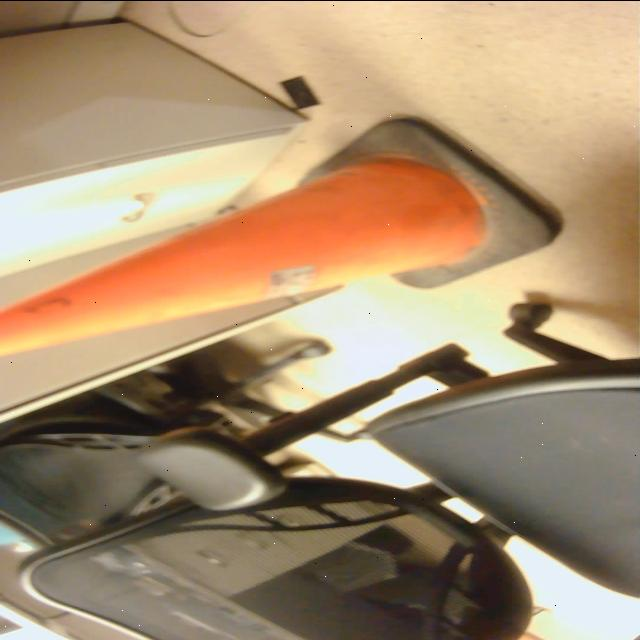traffic cone: (1, 112, 575, 362)
